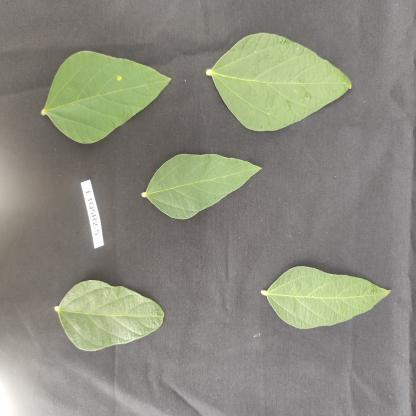label: (68, 177, 110, 261)
leaflets: (36, 29, 178, 151), (204, 39, 362, 145), (260, 237, 398, 345), (46, 266, 189, 361), (148, 139, 277, 244)
